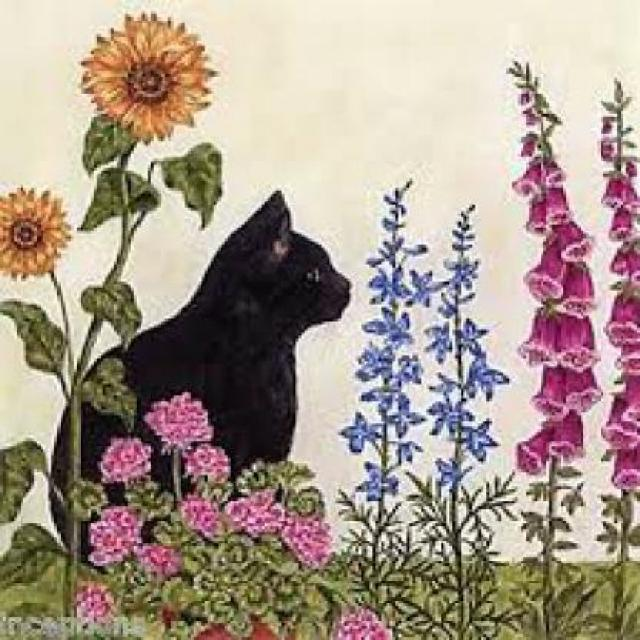animals: (151, 178, 355, 396)
